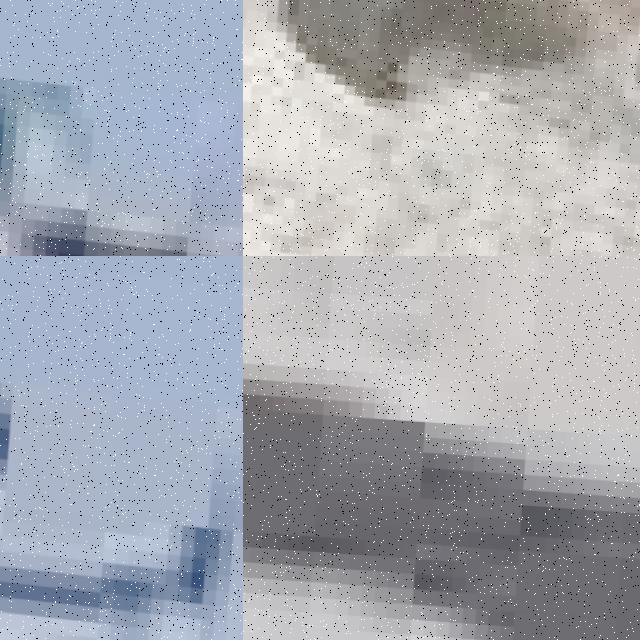drone: (243, 0, 640, 256), (0, 256, 243, 640), (0, 0, 243, 256)
